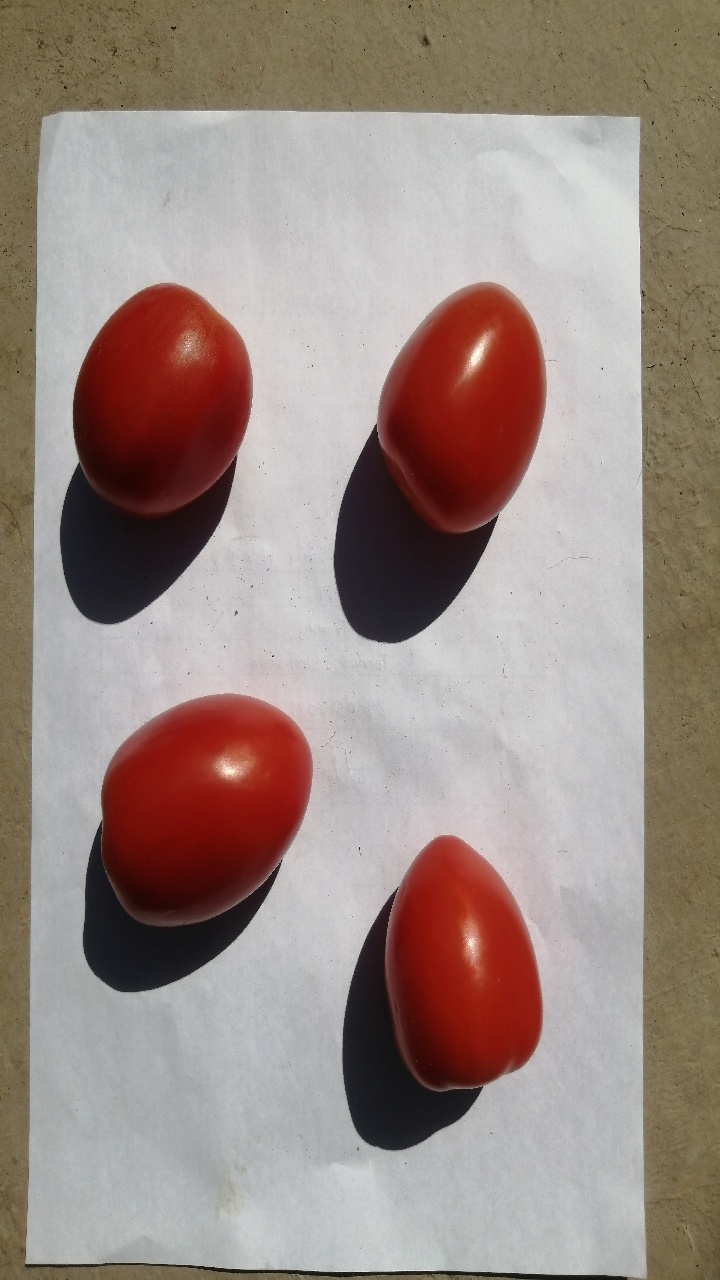tomateRojo: (75, 662, 326, 957), (48, 251, 272, 546), (366, 814, 568, 1117), (344, 265, 571, 534)
